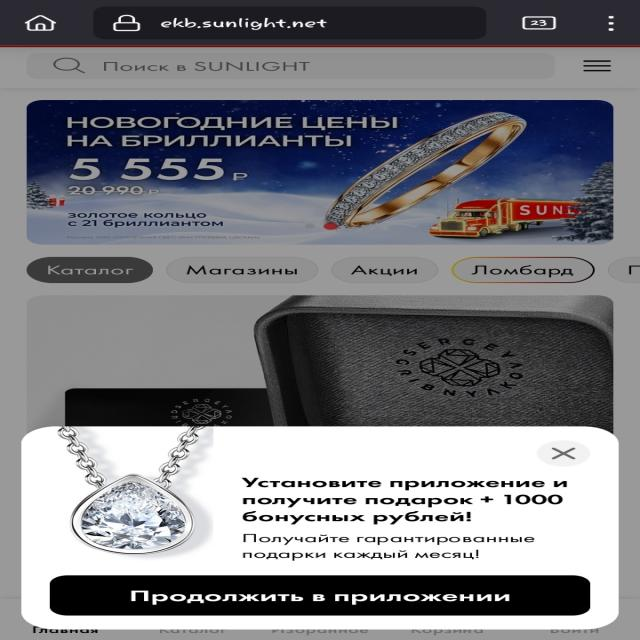button: (50, 574, 592, 616), (539, 438, 592, 467)
site: (23, 424, 621, 630)
